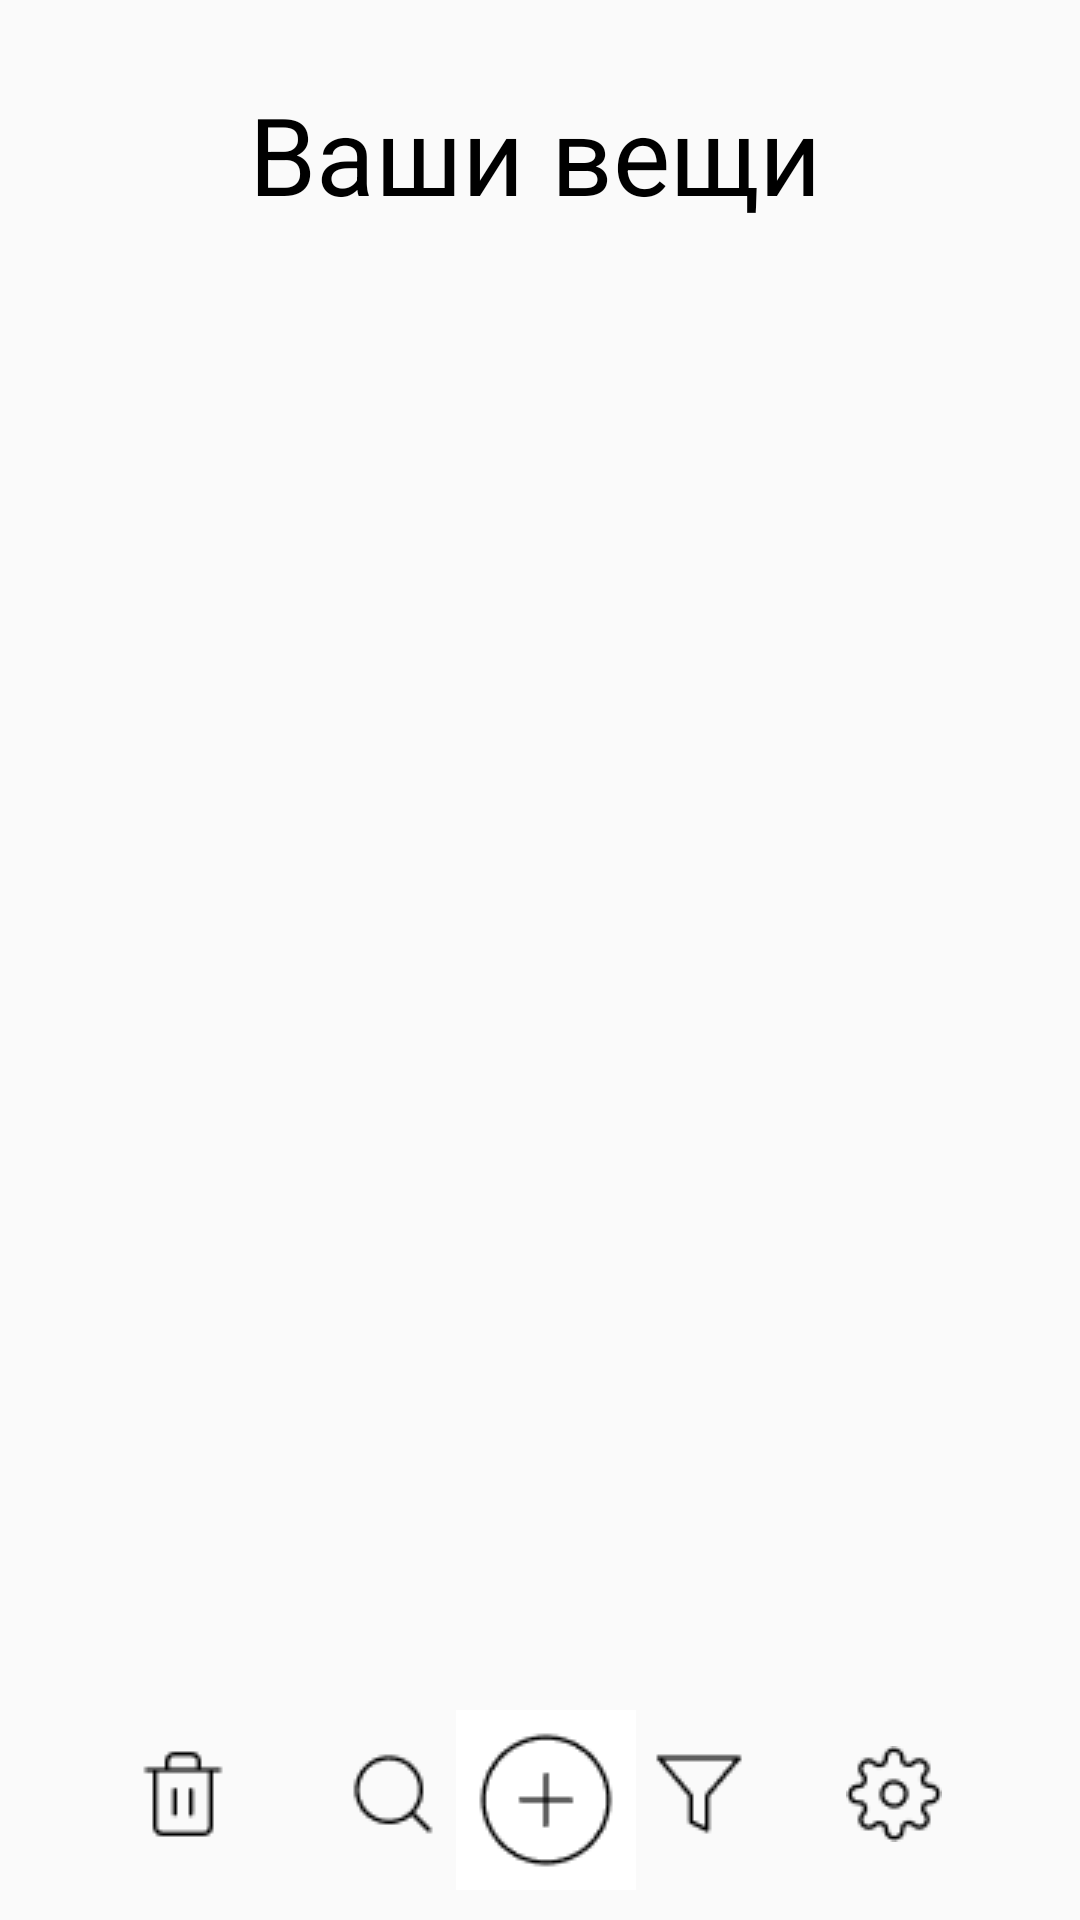

Screen size 1080 × 1920. Icon name, then its center in pixels as [x,y]:
add main: [546,1800]
delete: [183,1794]
search: [393,1794]
settings: [894,1794]
sort: [699,1794]
